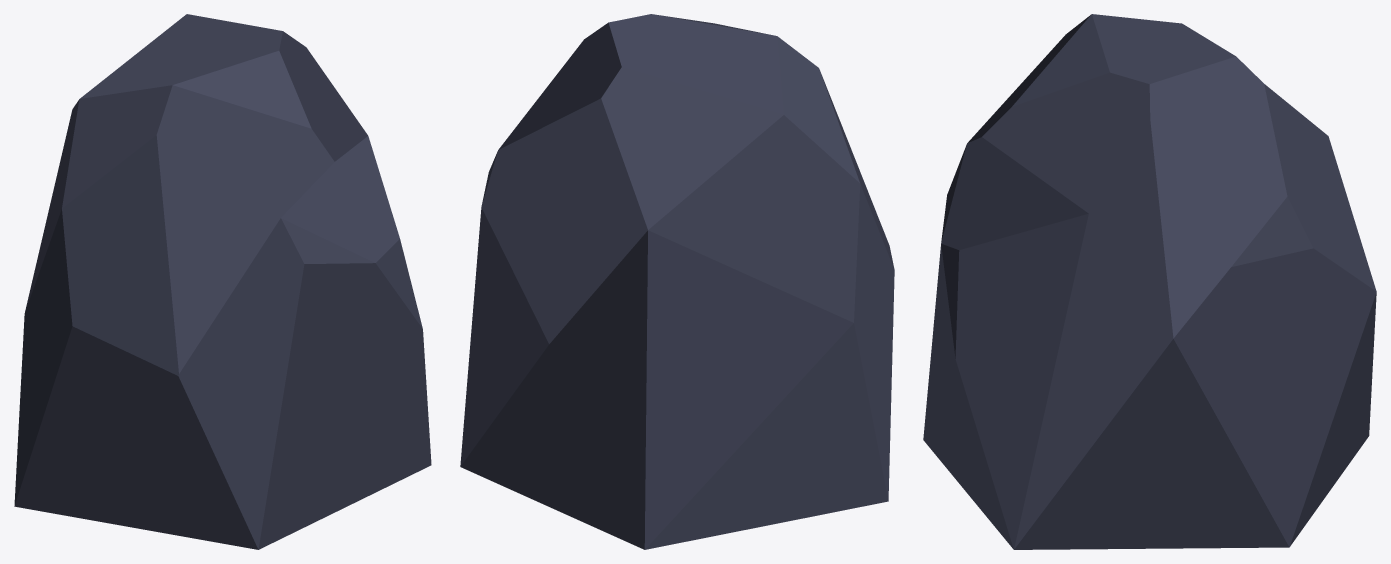
Rendered from rock1.fbx.
3 views of the same model, side by side, from view 1: azimuth 30°, elevation 25°; view 2: azimuth 150°, elevation 25°; view 3: azimuth 270°, elevation 25° (orthographic). The views are drawn at different scales.
Parts seen in each view (by area): view 1: Icosphere; view 2: Icosphere; view 3: Icosphere.
Boxes of the visible parts, left/top/right/bottom form: Icosphere: left=14, top=14, right=431, bottom=549; Icosphere: left=460, top=14, right=894, bottom=549; Icosphere: left=923, top=14, right=1376, bottom=549.
Bounding box in the file's own units: 173 × 184 × 173.
